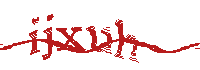h: (114, 19, 141, 64)
i: (29, 17, 41, 56)
j: (42, 12, 54, 61)
u: (87, 22, 113, 54)
x: (55, 24, 85, 52)
